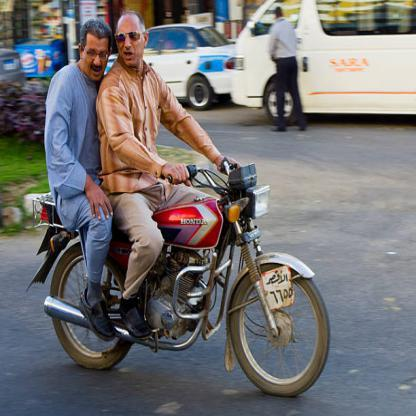Motorcycle: (23, 160, 332, 401)
